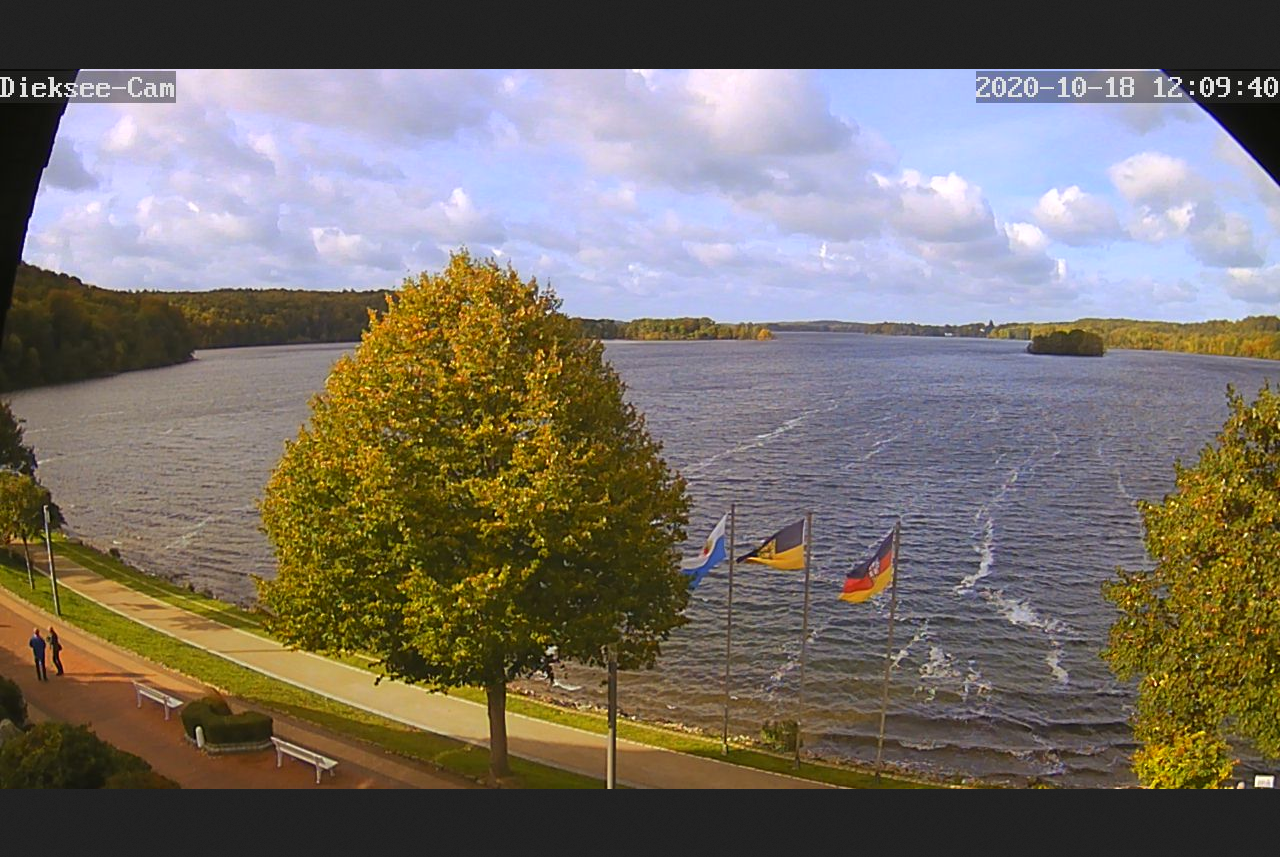maybe: (839, 529, 894, 610), (681, 515, 725, 586)
yes: (741, 522, 803, 577)
